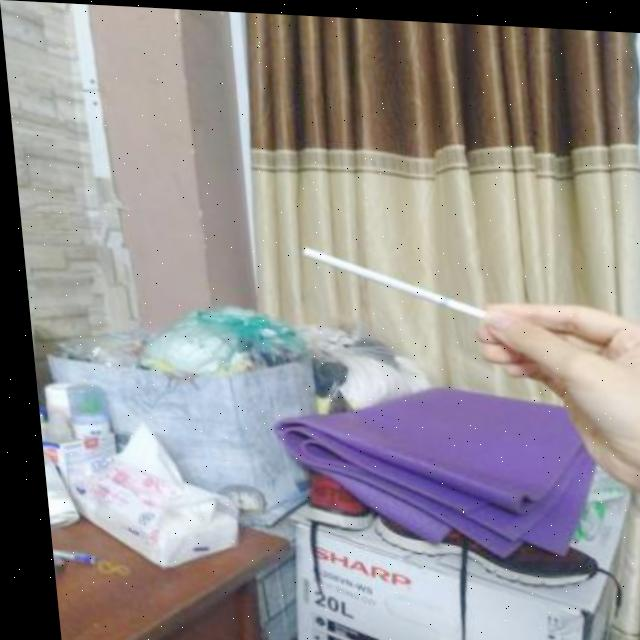cigarette: (296, 243, 479, 317)
